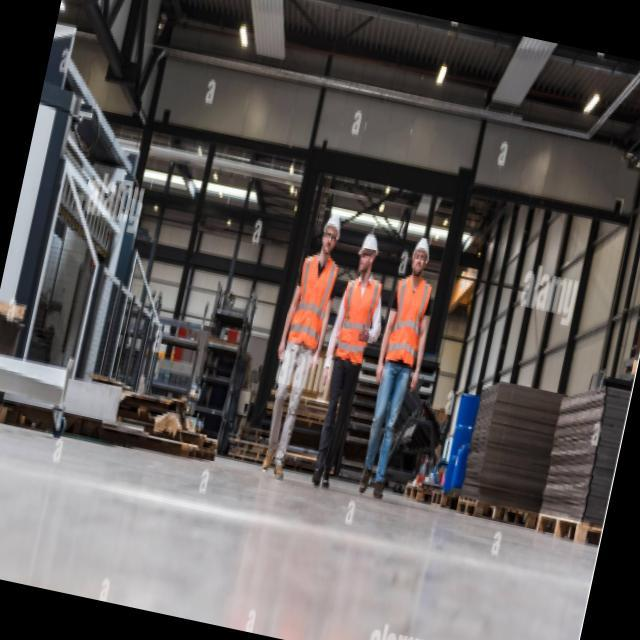hard_hat: (351, 228, 382, 279), (316, 212, 345, 262), (407, 233, 434, 282)
shoes: (355, 465, 390, 505), (258, 446, 289, 483), (308, 459, 336, 494)
vest: (285, 248, 342, 355), (380, 271, 435, 371), (329, 272, 383, 369)
